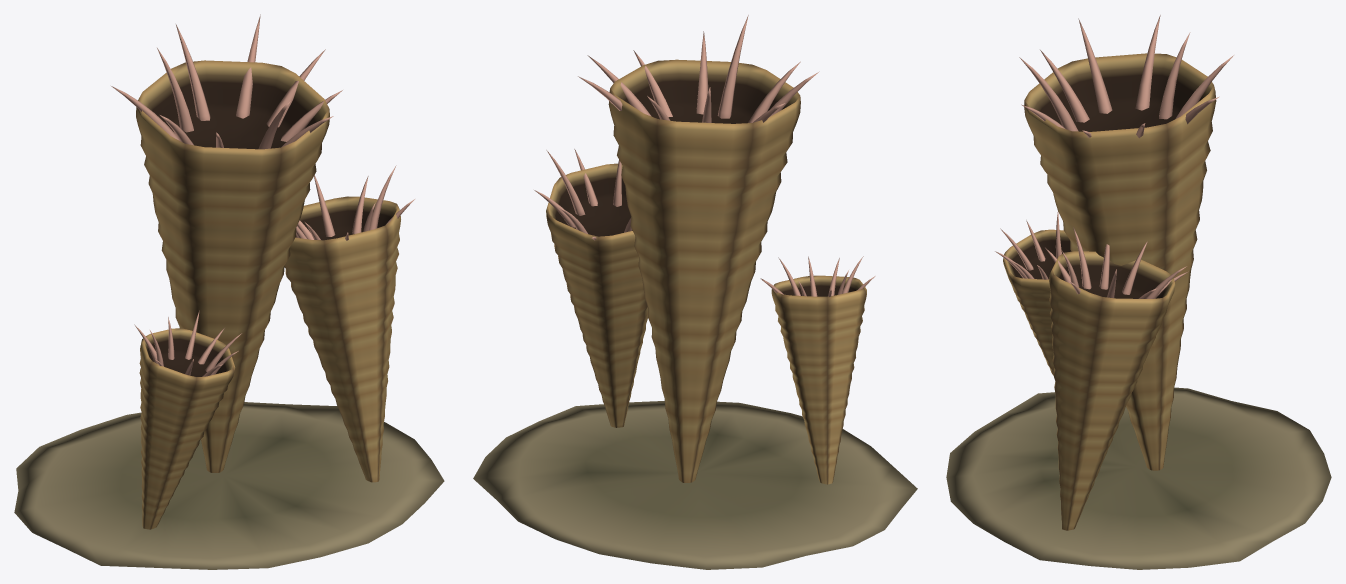
File: Vendoconularia.fbx
3 renders of one model, left to right at view 1: azimuth 30°, elevation 25°; view 2: azimuth 150°, elevation 25°; view 3: azimuth 270°, elevation 25°, orthographic.
Visible parts, largest first — view 1: Vendoconularia; view 2: Vendoconularia; view 3: Vendoconularia.
Part boxes in pixels (bbox=[...]): Vendoconularia: bbox=[14, 14, 444, 569]; Vendoconularia: bbox=[473, 15, 917, 569]; Vendoconularia: bbox=[946, 15, 1331, 569].
Bounding box in the file's own units: 1.2 × 1.29 × 1.06.
